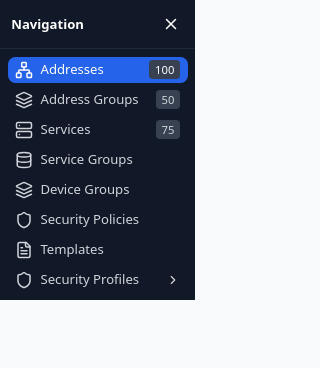
Sidebar › toggles security profiles submenu
expect the text "Vulnerability Profiles" is not shown: met
What coordinates should you click on to do the following:
click the button "Security Profiles"
I would click on:
 (98, 280)
Its box is [8,266,188,293].
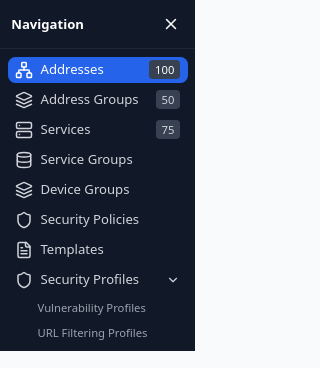
expect the button "Vulnerability Profiles" is shown: met, box [30,296,188,319]
expect the button "URL Filtering Profiles" is shown: met, box [30,321,188,343]
